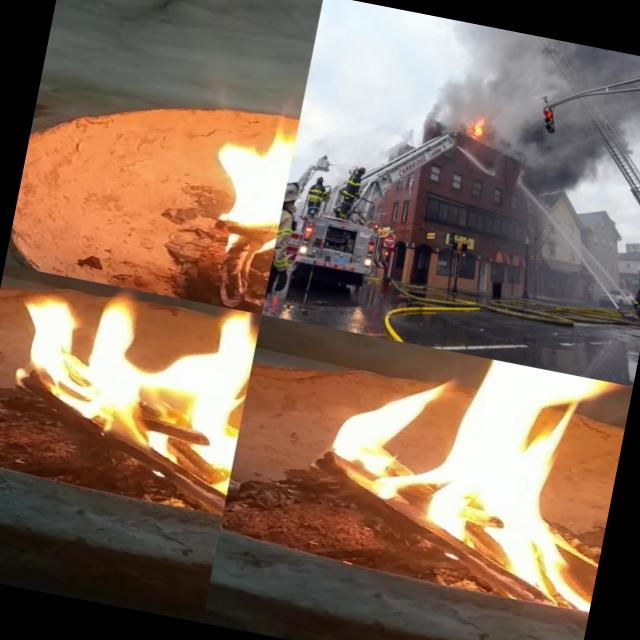fire: (283, 328, 633, 614), (0, 264, 262, 516), (175, 56, 308, 255), (464, 113, 488, 142)
smoke: (472, 27, 640, 152), (478, 116, 612, 200), (417, 17, 487, 135)
